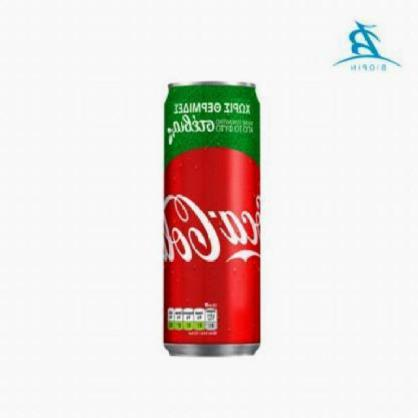can: (163, 80, 264, 357)
